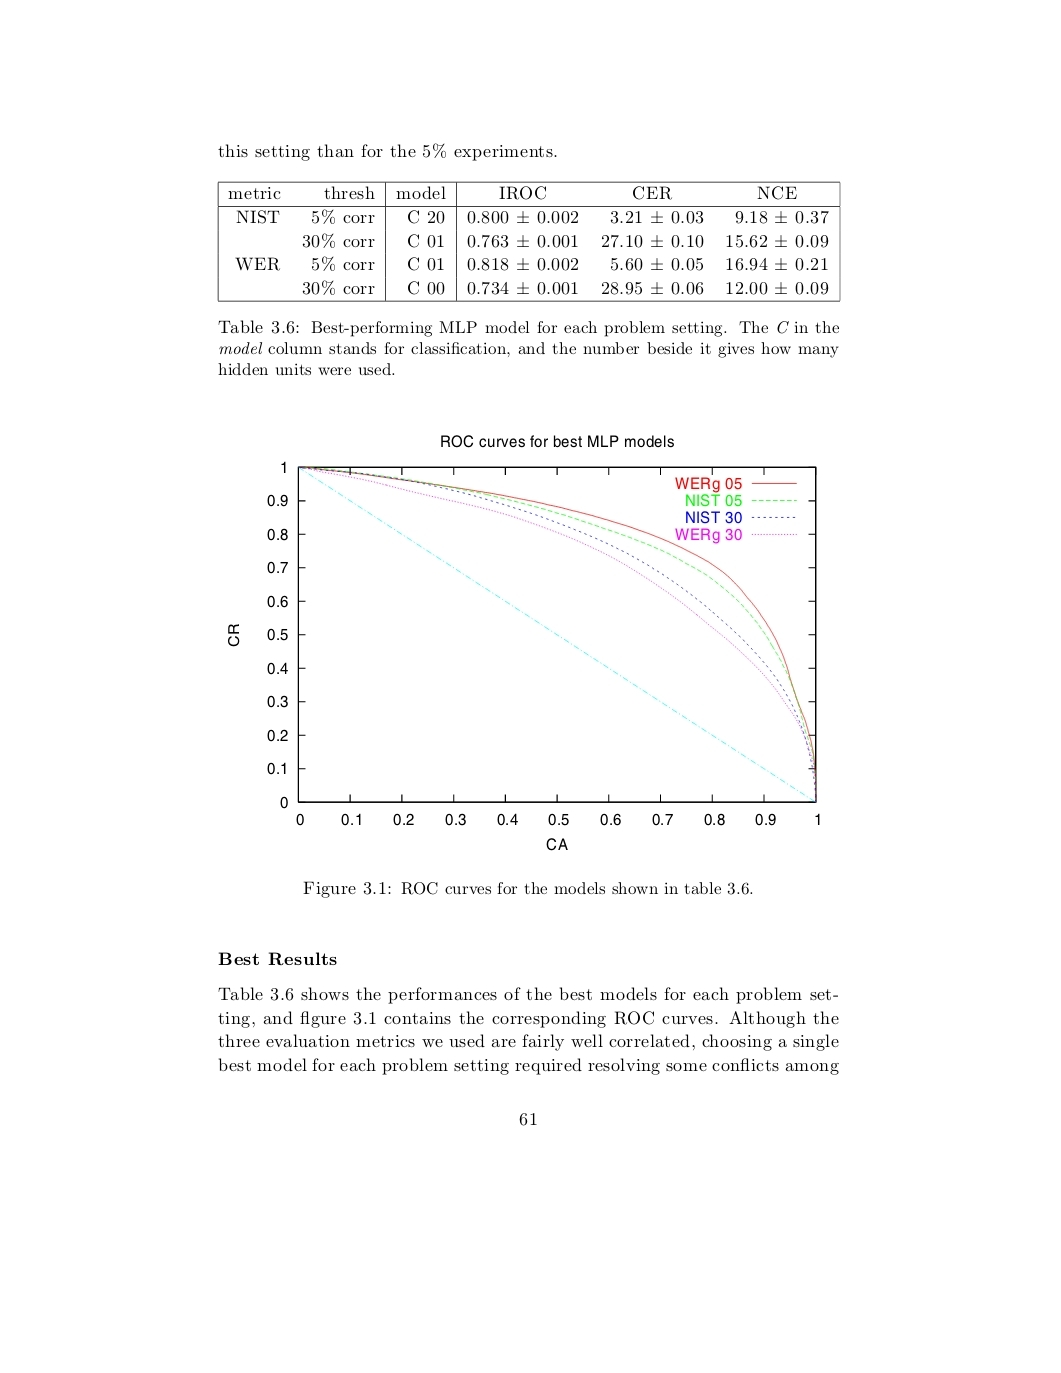Table: (217, 181, 840, 302)
figure: (228, 461, 819, 850)
